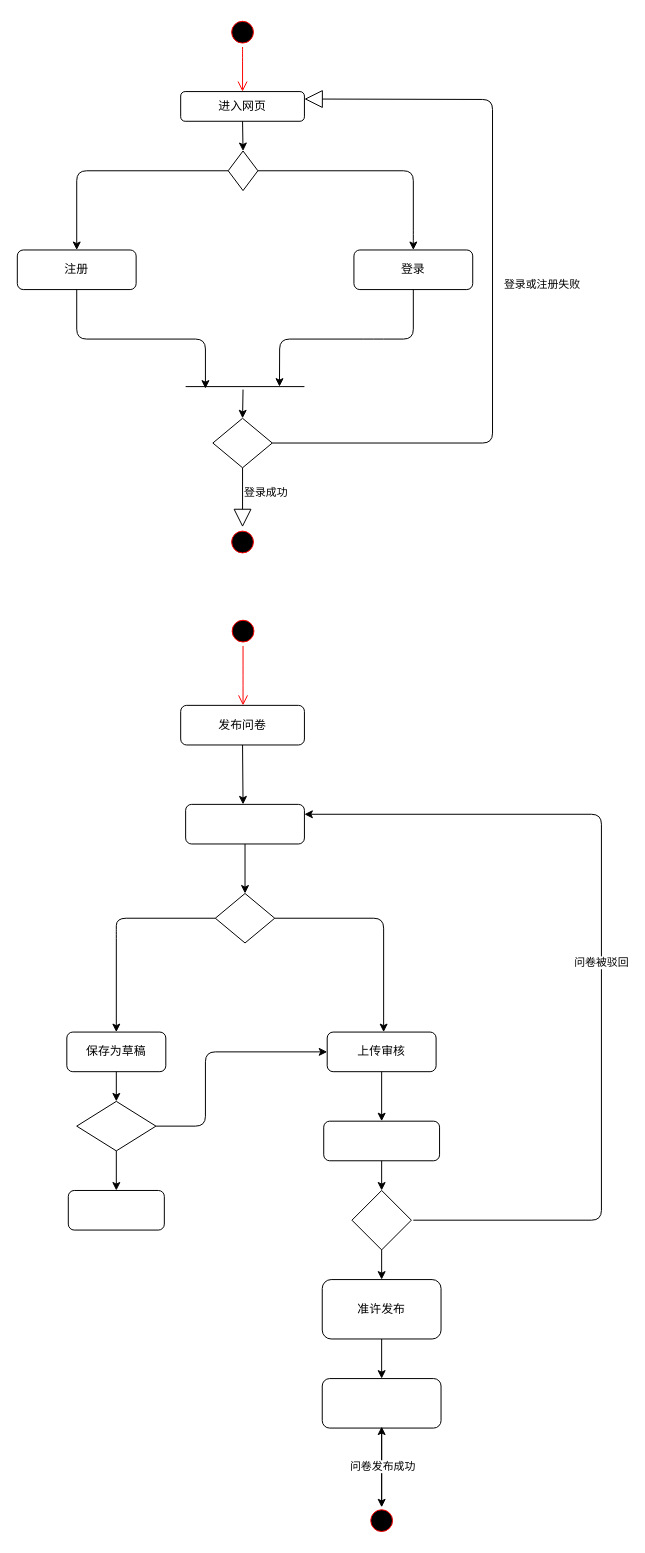
This 645x1553 diagram has some shape labels left out. Here are the shapes that lost their labels. From the top down, the centre of each, then its label:
At [244,823]: "编辑问卷".
At [381,1140]: "审核完成".
At [115,1209]: "删除草稿".
At [381,1403]: "设置回答人数和悬赏金额并支付".
